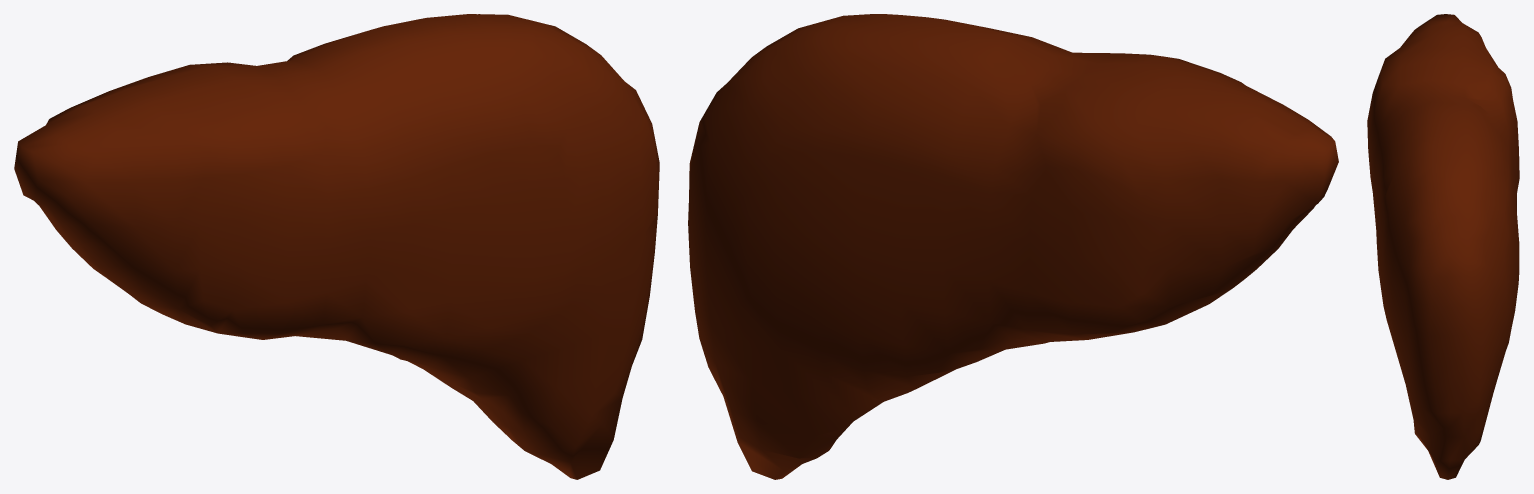
File: liver.fbx
The picture shows the model from 3 angles, left to right: view 1: azimuth 30°, elevation 25°; view 2: azimuth 150°, elevation 25°; view 3: azimuth 270°, elevation 25°; orthographic projection. The views are drawn at different scales.
Parts seen in each view (by area): view 1: male_liver_remesh2; view 2: male_liver_remesh2; view 3: male_liver_remesh2.
Part boxes in pixels (bbox=[...]): male_liver_remesh2: bbox=[14, 14, 659, 479]; male_liver_remesh2: bbox=[688, 14, 1338, 479]; male_liver_remesh2: bbox=[1367, 14, 1519, 479].
Size of the model in its own units: 16.61 by 12.34 by 5.53.
